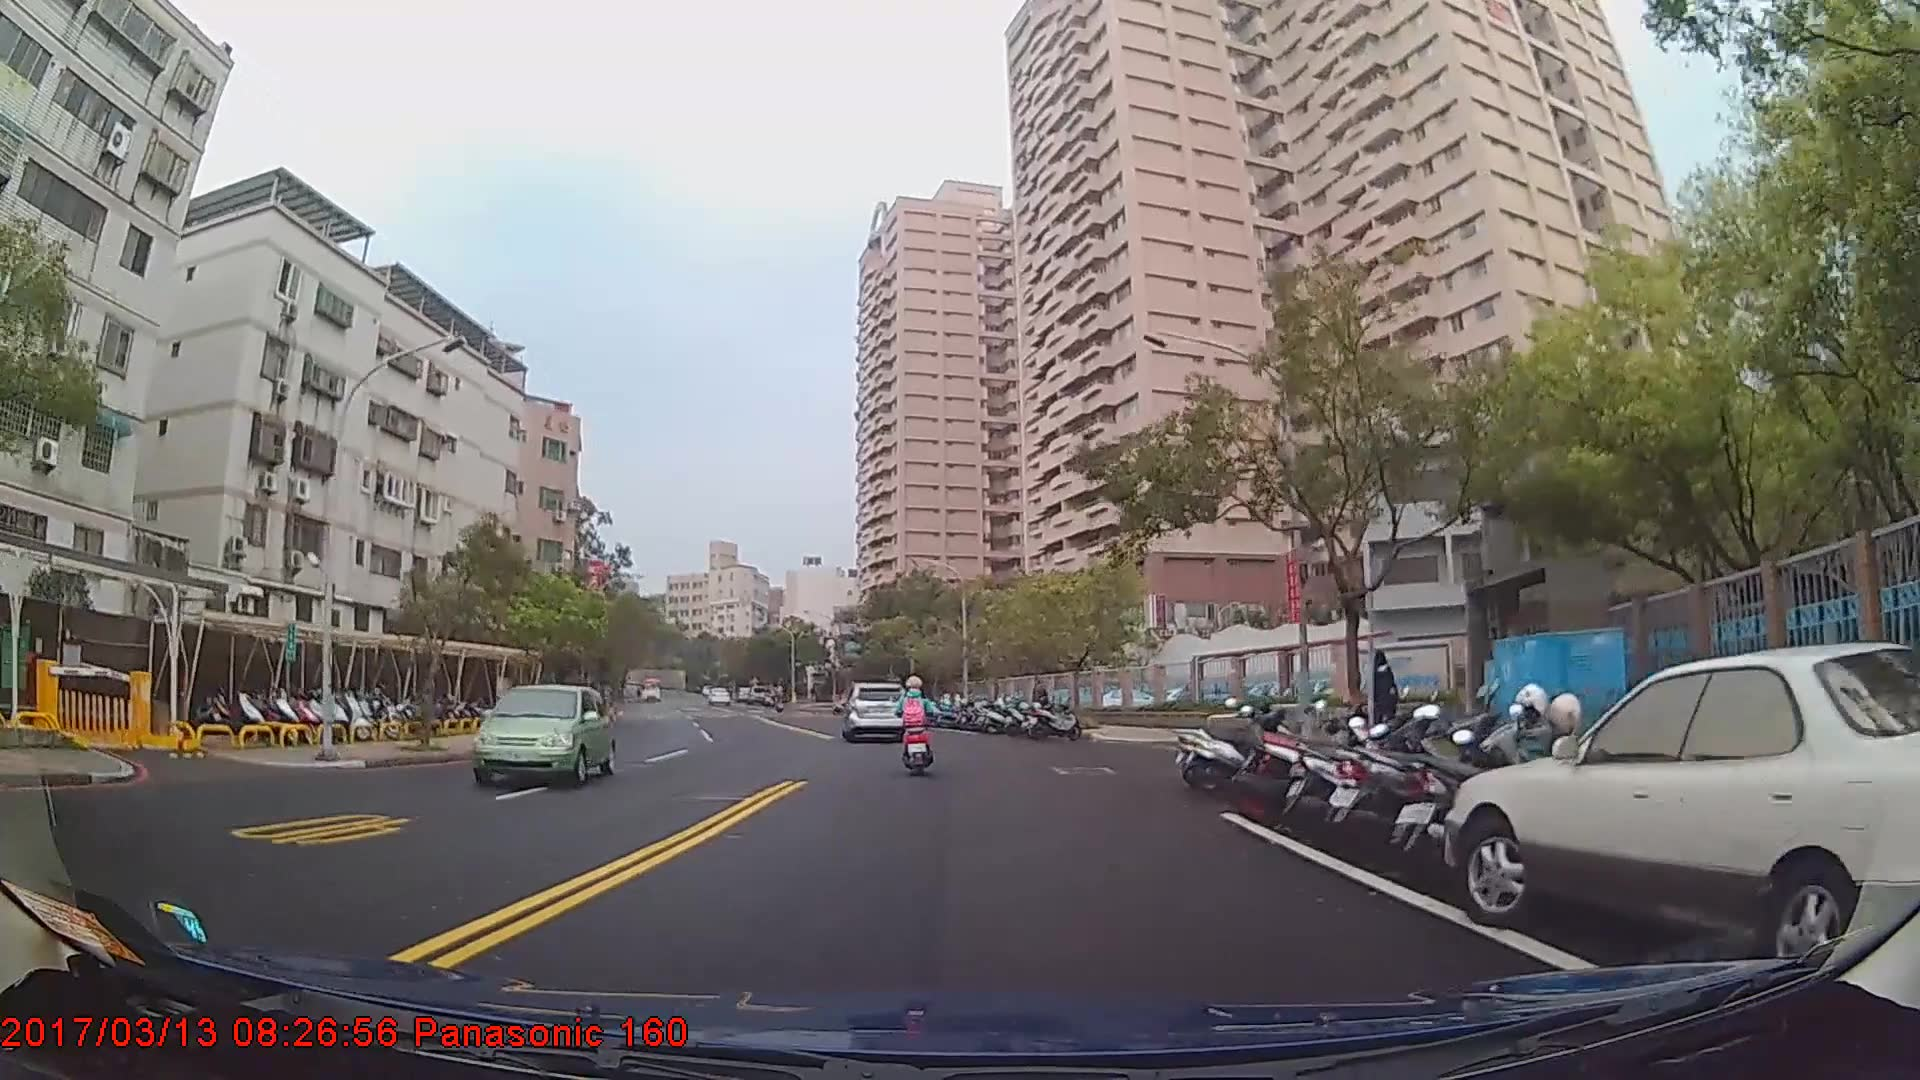pedestrian: (1371, 649, 1401, 757), (1032, 678, 1052, 727)
rider: (897, 674, 938, 781)
vehicle: (1446, 641, 1920, 983), (470, 682, 614, 784), (843, 677, 909, 741), (638, 677, 663, 705)
